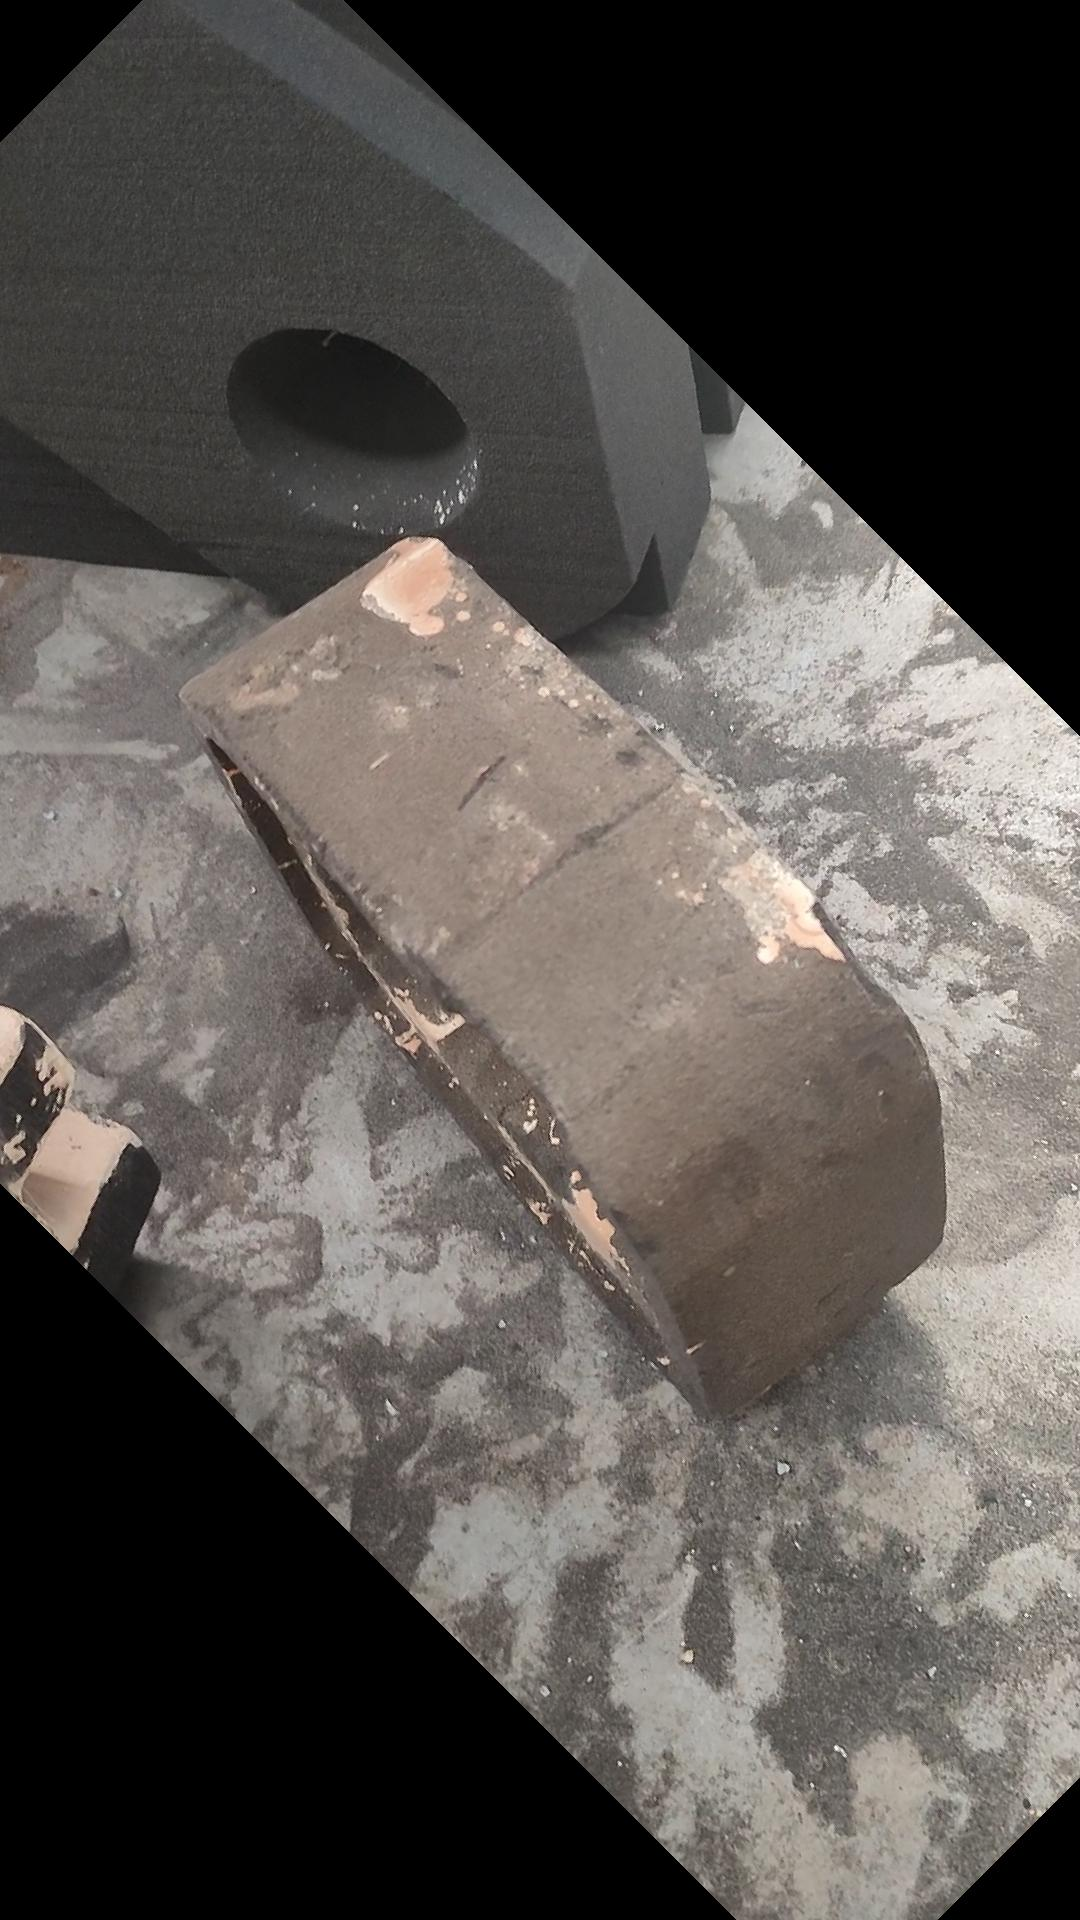pouring hole: (225, 328, 473, 535)
